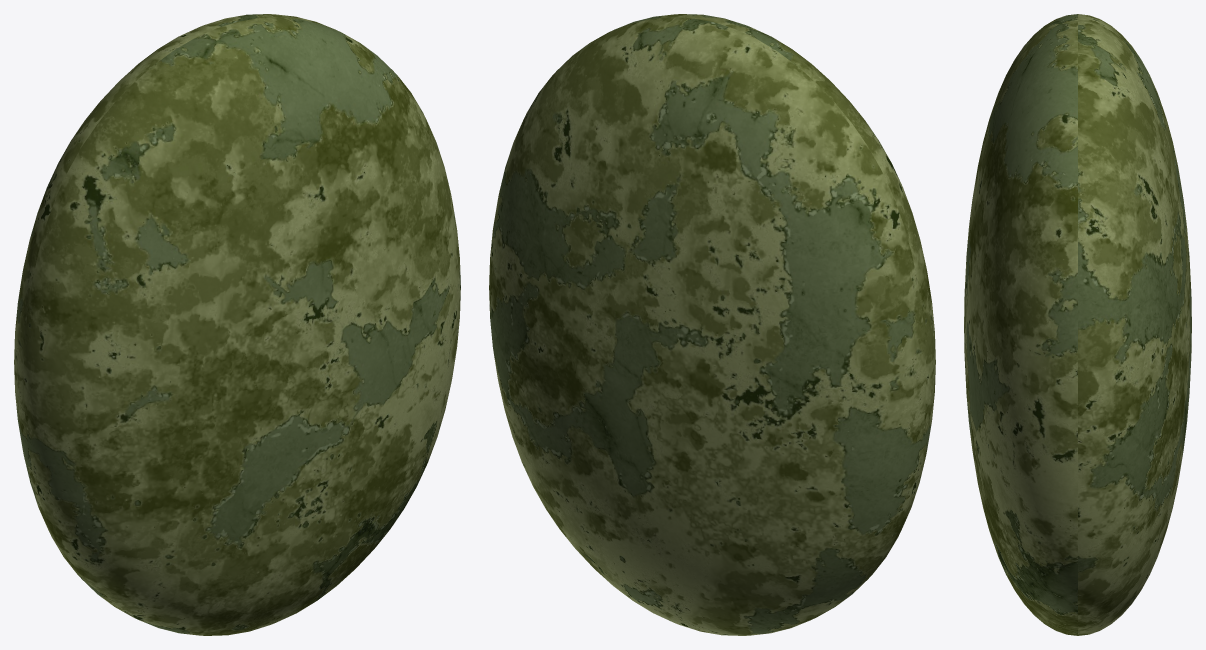
Rendered from Serpentine.fbx.
The picture shows the model from 3 angles, left to right: view 1: azimuth 30°, elevation 25°; view 2: azimuth 150°, elevation 25°; view 3: azimuth 270°, elevation 25°; orthographic projection. The views are drawn at different scales.
Visible parts, largest first — view 1: Serpentine; view 2: Serpentine; view 3: Serpentine.
Boxes of the visible parts, x1,y1,x2,y2 form: Serpentine: [14, 14, 460, 635]; Serpentine: [489, 14, 935, 635]; Serpentine: [964, 14, 1191, 635].
Bounding box in the file's own units: 0.1398 × 0.1893 × 0.0666.
1 material, 1 textured.
